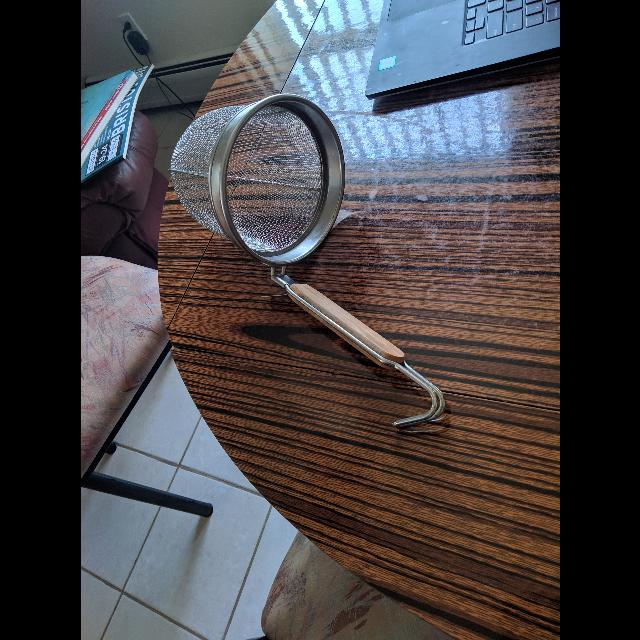Handle: (259, 260, 455, 436)
Strainer: (216, 88, 353, 271)
